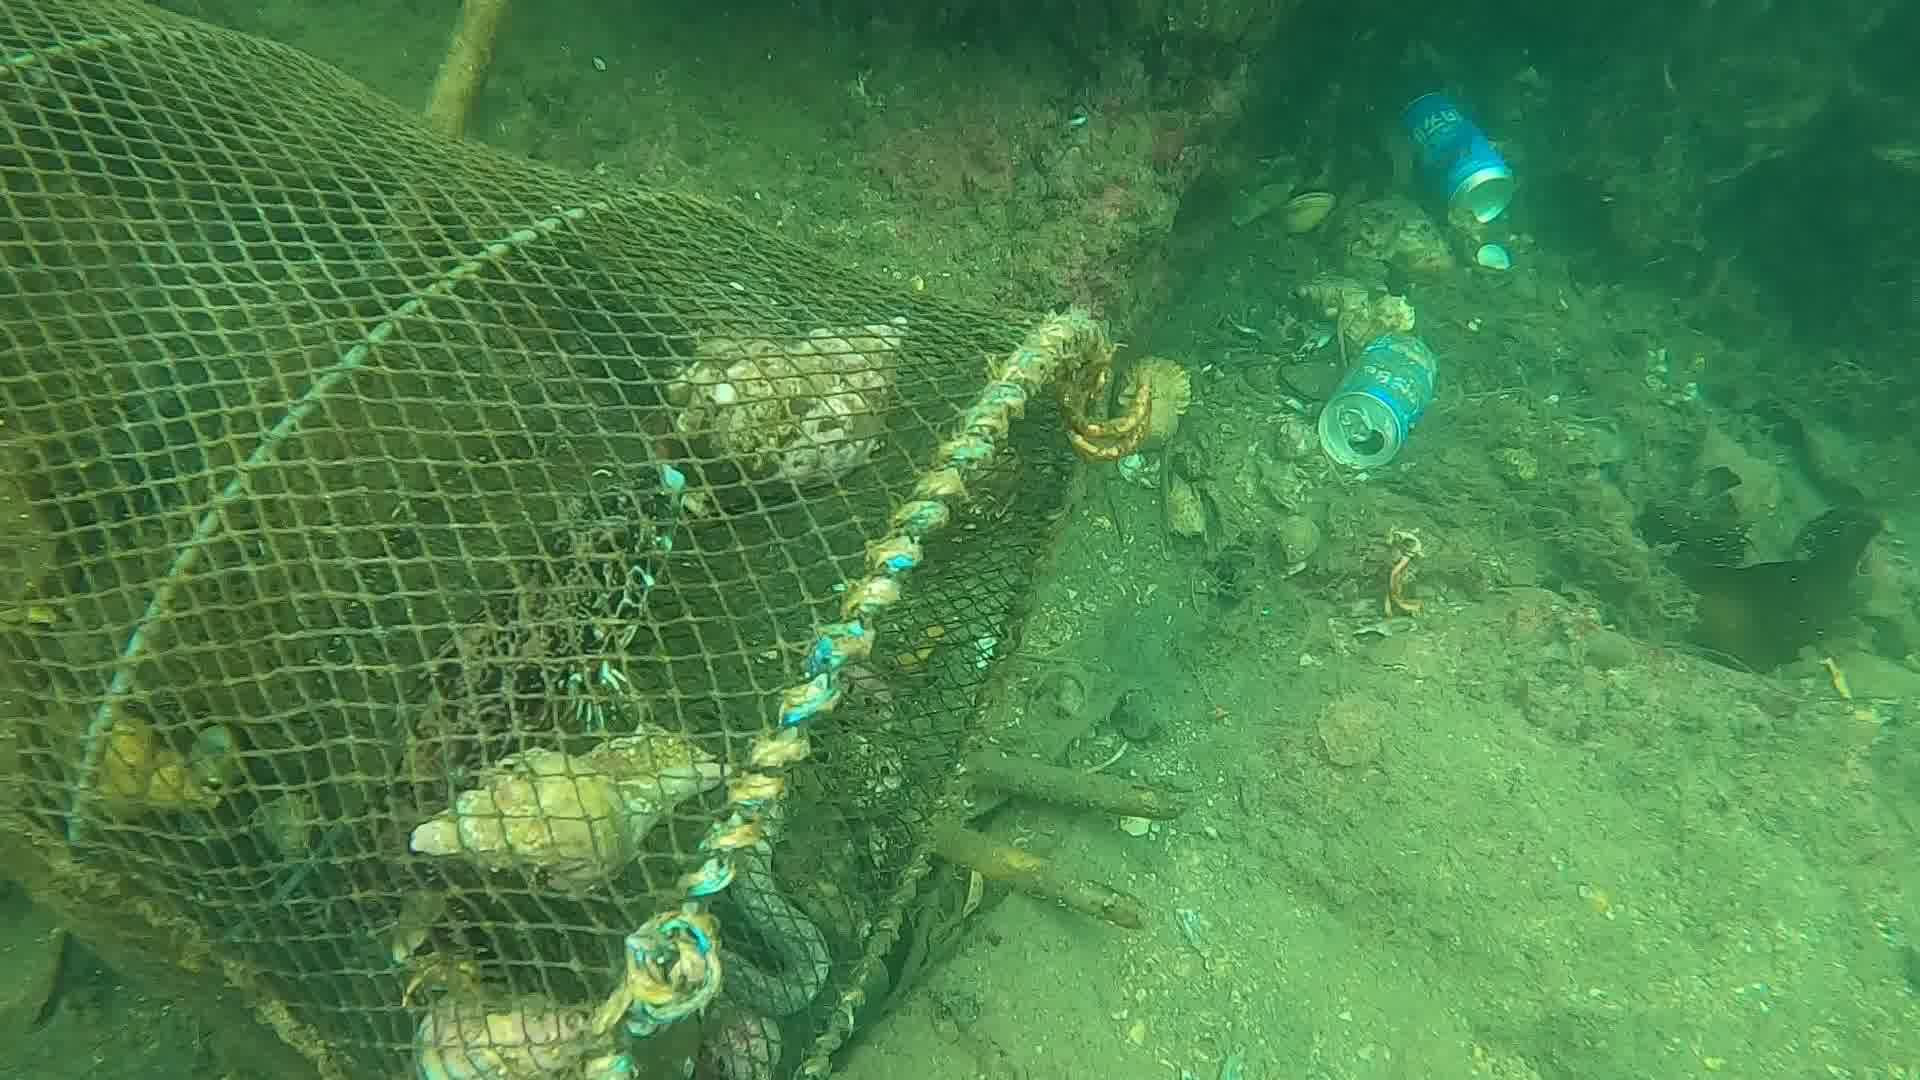spring fish trap: (0, 0, 1108, 1077)
